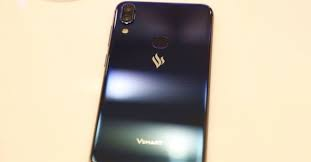vsmart: (82, 1, 218, 162)
